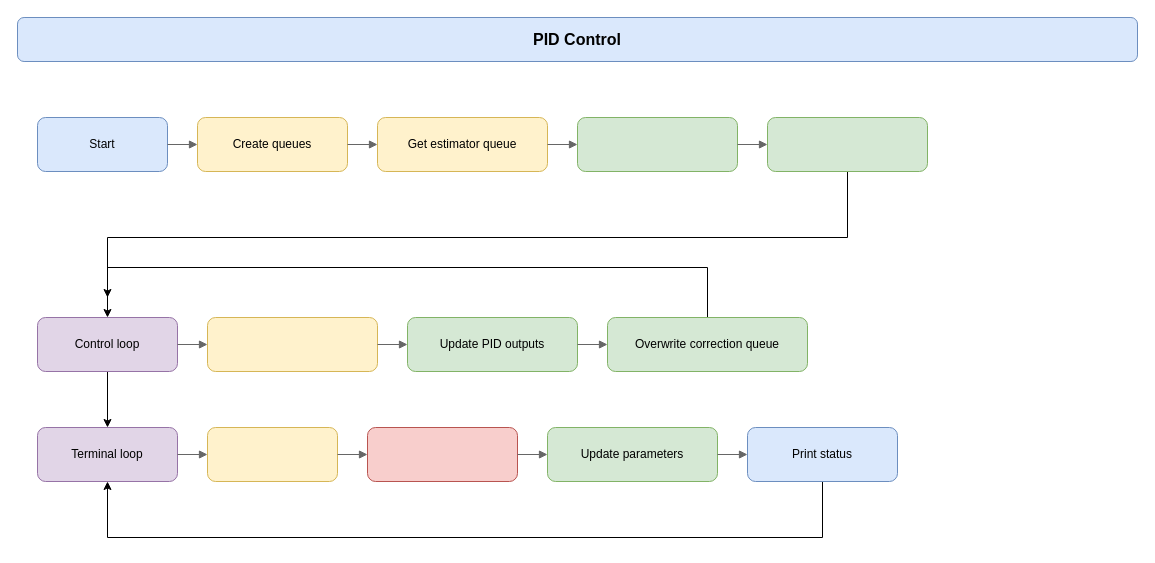
The diagram is 1155 pixels wide and 563 high, and some of its shapes have lost their labels. The shapes that lost their labels are listed below. From the top down, each one's centre as x and y in pixels, then its label:
At point (657, 144): "Start control task".
At point (847, 144): "Start terminal task".
At point (292, 344): "Receive orientation".
At point (272, 454): "Read stdin".
At point (442, 454): "Parse command".
